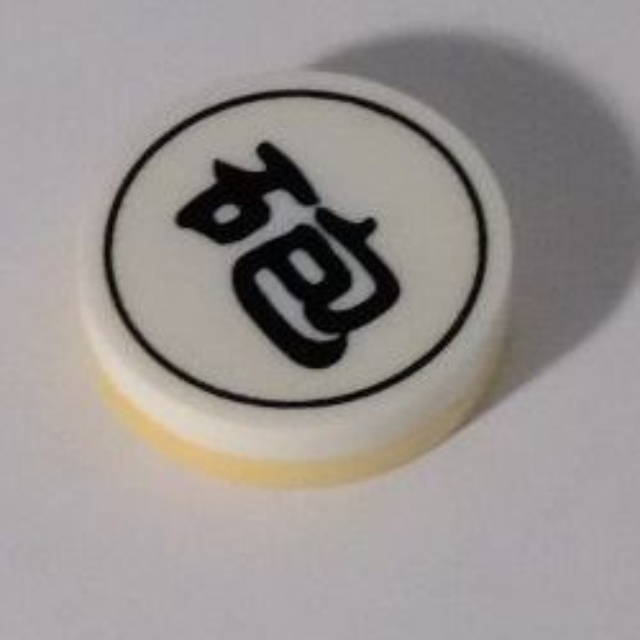black_phao: (66, 66, 524, 494)
